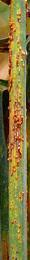Wheat: (9, 5, 25, 172)
